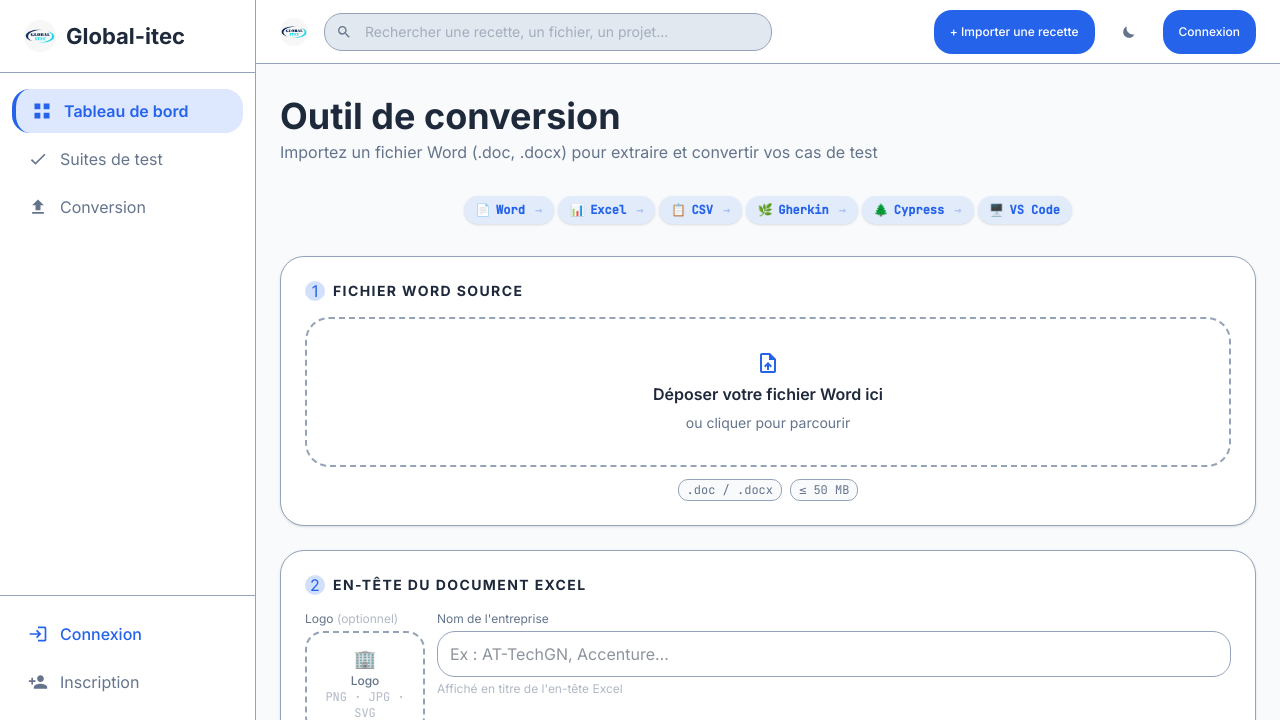
Test: ConvertPage › updates preview when company name changes
This screenshot has width=1280, height=720.
Type "ACME Corp" into the field with placeholder "Ex : AT-TechGN, Accenture…" at (834, 654), box [437, 631, 1231, 677]
(page scrolled)
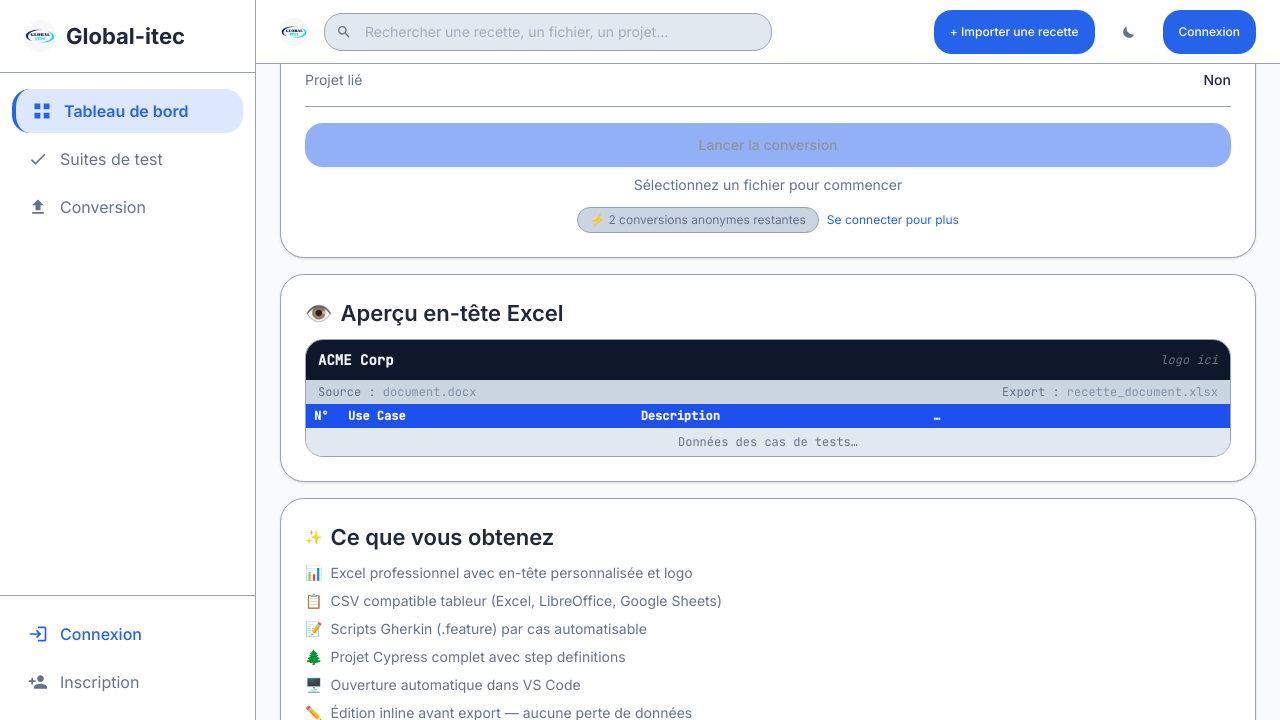
Now the text "ACME Corp" is shown, box [318, 350, 394, 370]
